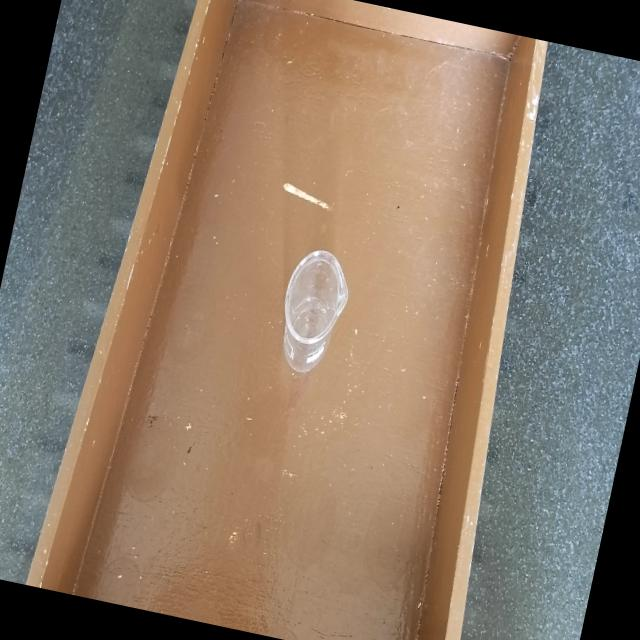beaker: (266, 238, 360, 384)
